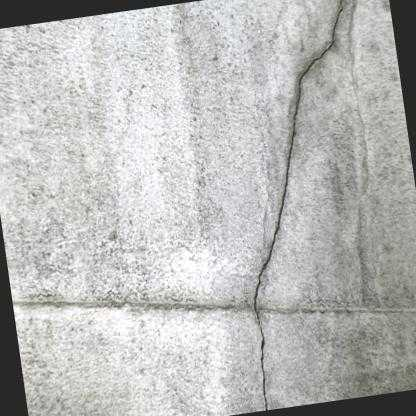crack: (248, 0, 344, 411)
